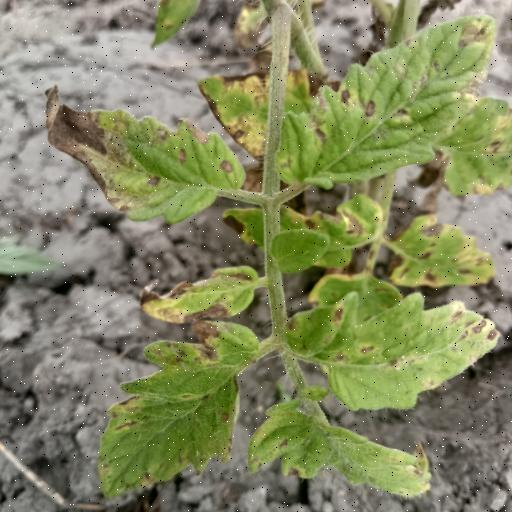Tomato_Brown_Spots: (273, 14, 497, 198), (96, 315, 265, 509), (42, 82, 249, 229), (288, 281, 505, 411), (254, 394, 436, 501)
